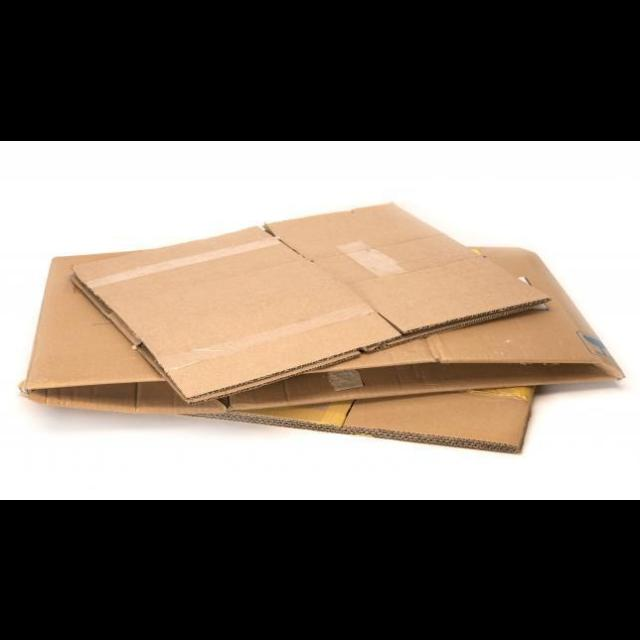papelão: (18, 199, 624, 455)
